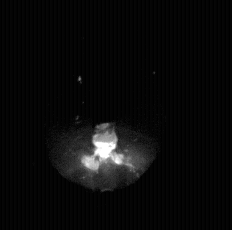arame: (94, 0, 119, 128)
poca: (46, 0, 159, 230)
